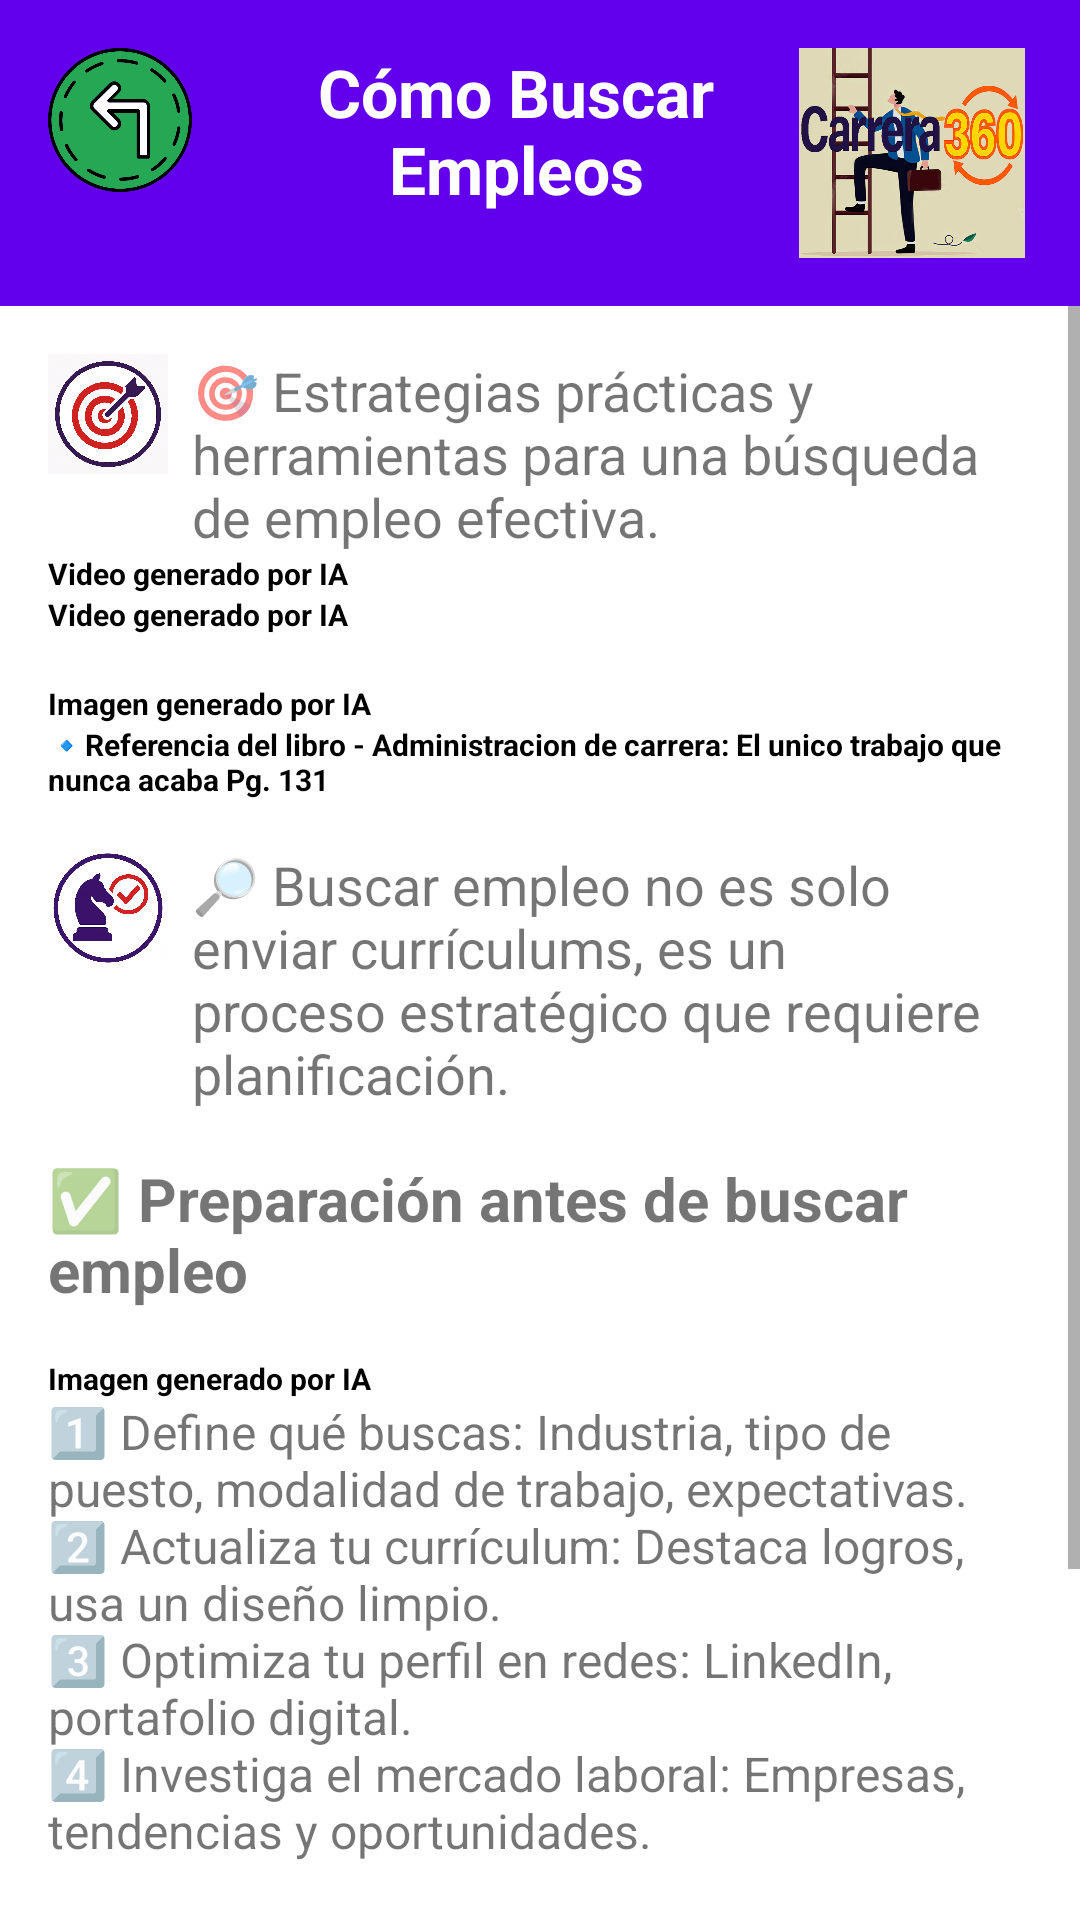

Icons on this 1080w x 1920h Android screen, each with the point to tap as (x=x, y=y):
Regresar a Inicio: (x=120, y=120)
strategy: (x=108, y=908)
target: (x=108, y=414)
